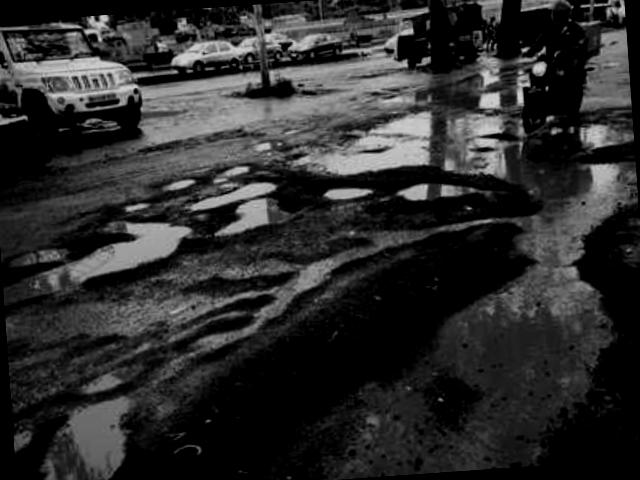Pothole: (179, 32, 640, 480), (0, 207, 192, 317), (28, 360, 158, 480), (184, 162, 285, 226), (216, 188, 310, 242), (394, 169, 477, 207), (310, 170, 384, 204)
